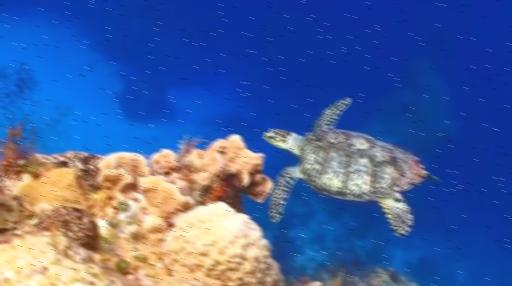Fish: (262, 98, 438, 235)
